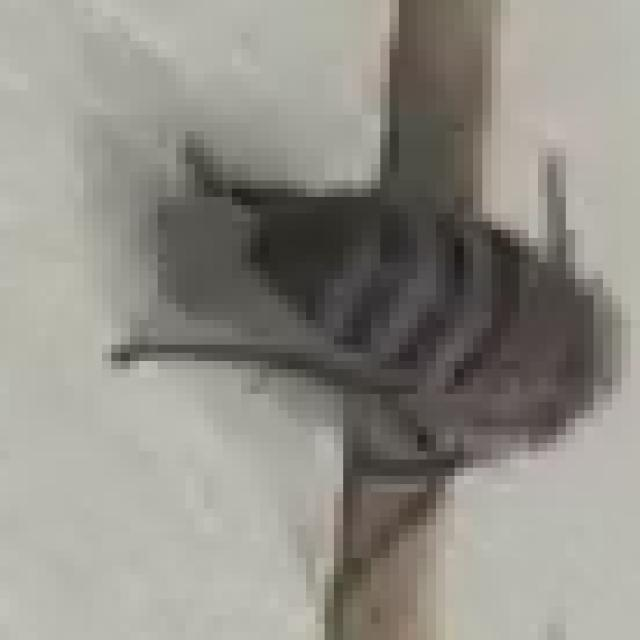honeybee: (130, 108, 600, 532)
